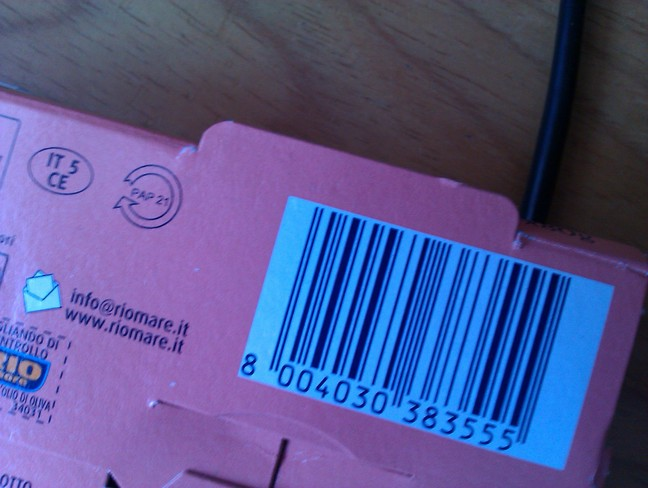detection: (240, 197, 611, 469)
